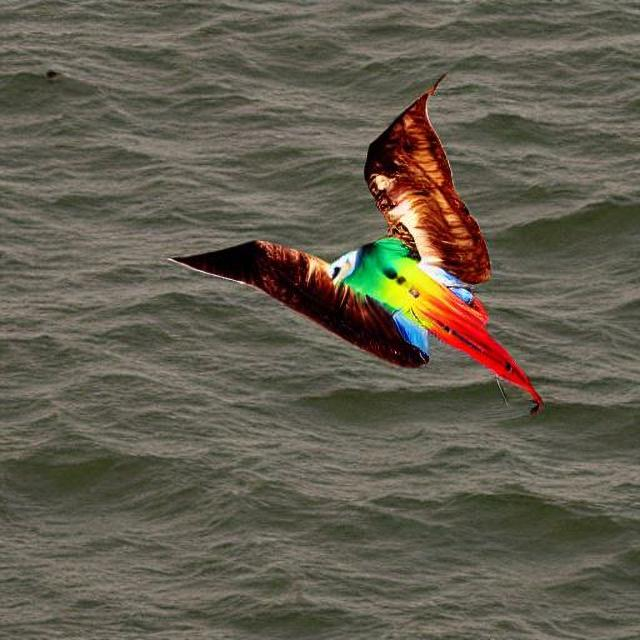floating object: (366, 72, 548, 413), (165, 232, 446, 370)
